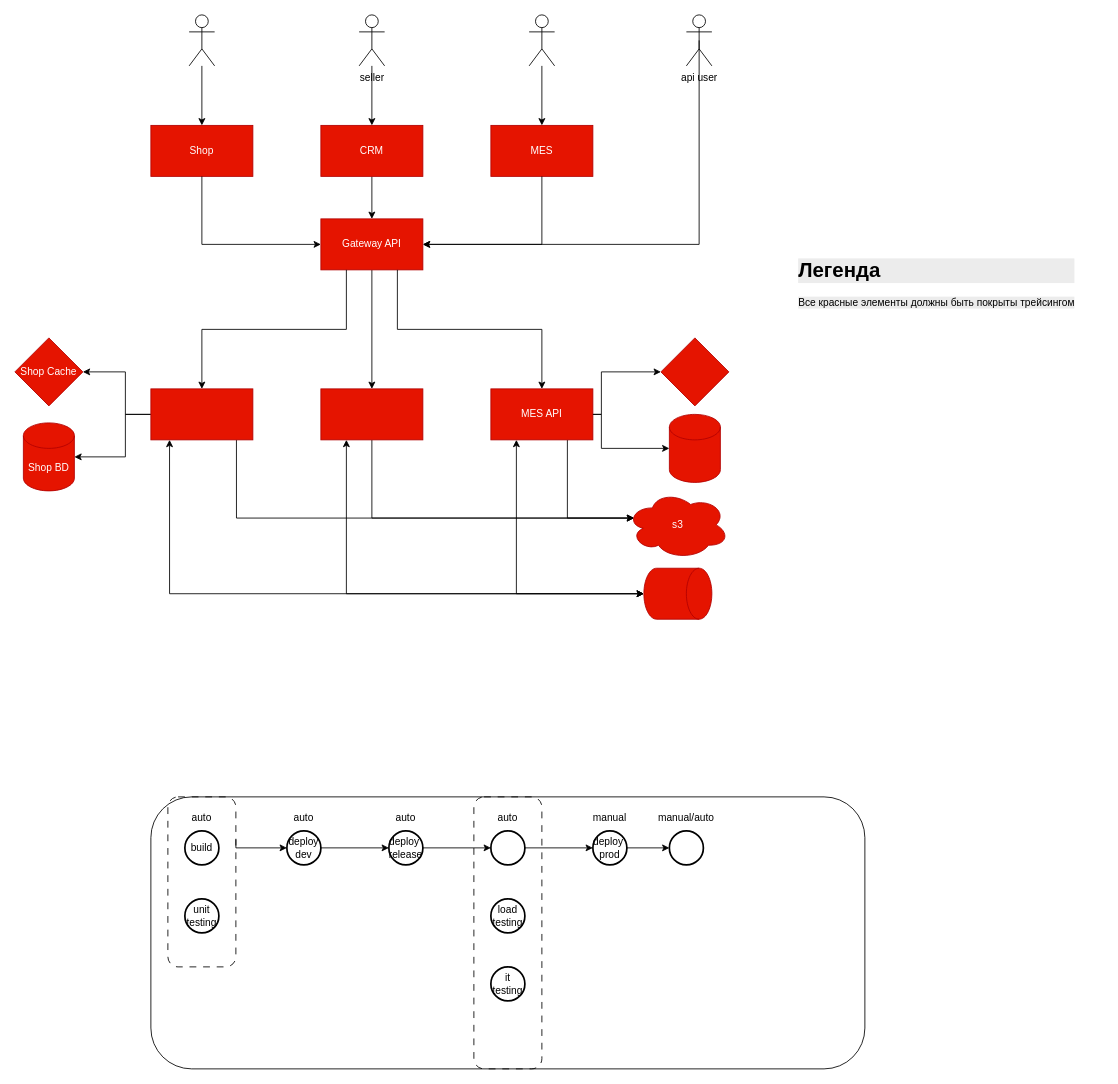
Some shapes in this 1118 by 1084 pixel diagram are drawn without their labels. The shapes that lost their labels are listed below. From the top down, each one's box as (x1, y1, x2, y2) in pixels, then its label:
(188, 14, 215, 66): customer
(528, 14, 555, 66): operator
(660, 337, 729, 406): MES Cache
(150, 388, 253, 440): Shop API
(320, 388, 423, 440): CRM API
(669, 414, 720, 482): MES BD
(490, 830, 525, 865): e2e testing
(668, 830, 704, 865): smoke testing
